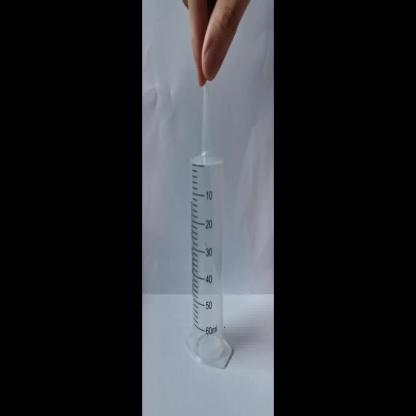dry: (183, 91, 236, 377)
